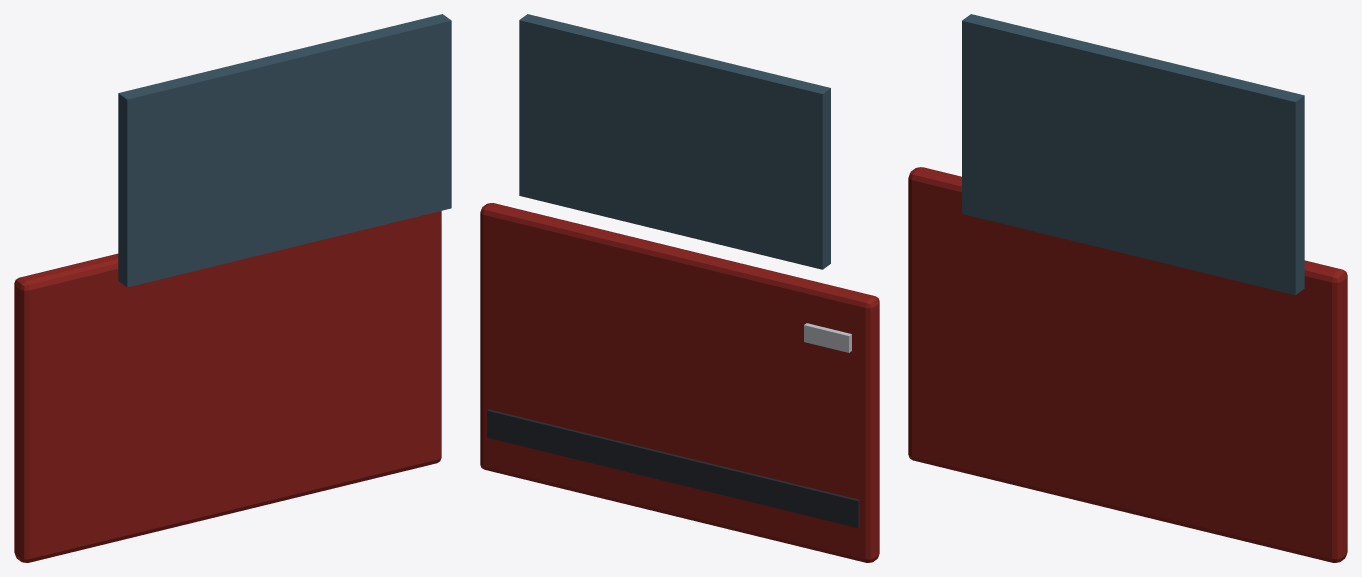
The model's file is door_l.obj.
The picture shows the model from 3 angles, left to right: view 1: azimuth 30°, elevation 25°; view 2: azimuth 150°, elevation 25°; view 3: azimuth 330°, elevation 25°; orthographic projection. The views are drawn at different scales.
Visible parts, largest first — view 1: Cube; view 2: Cube; view 3: Cube.
Part boxes in pixels (box(x1,y1,x2,y2)): Cube: box(14, 14, 451, 562); Cube: box(480, 14, 879, 562); Cube: box(908, 14, 1347, 562).
Size of the model in its own units: 1.22 by 1.29 by 0.1975.
